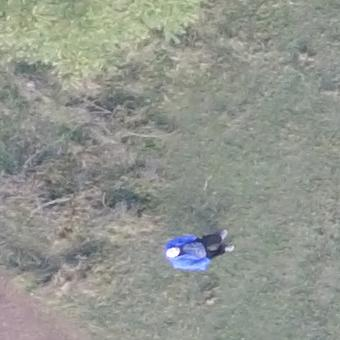human: (164, 228, 238, 272)
